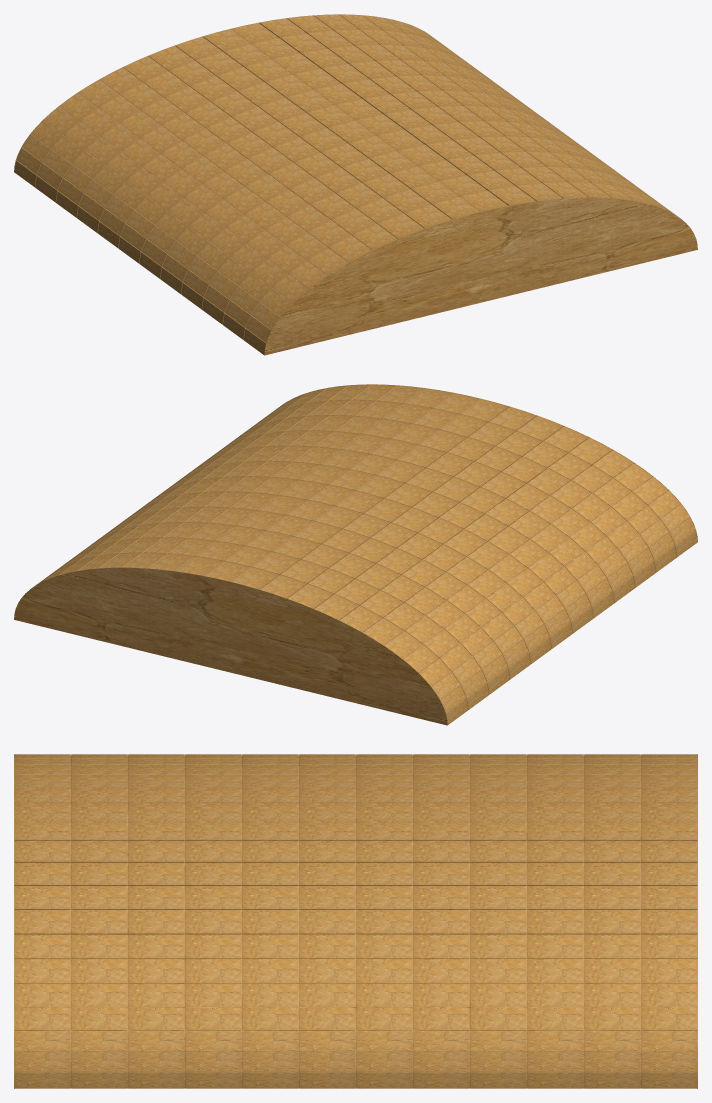
File: SM_MoleControlV2_StoneVault600.fbx
3 renders of one model, top to bottom at view 1: azimuth 30°, elevation 25°; view 2: azimuth 150°, elevation 25°; view 3: azimuth 270°, elevation 25°, orthographic. The views are drawn at different scales.
Parts seen in each view (by area): view 1: SM_MoleControlV2_StoneVault600; view 2: SM_MoleControlV2_StoneVault600; view 3: SM_MoleControlV2_StoneVault600.
Boxes of the visible parts, box(x1,y1,x2,y2) form: SM_MoleControlV2_StoneVault600: box(14, 14, 697, 355); SM_MoleControlV2_StoneVault600: box(14, 384, 697, 725); SM_MoleControlV2_StoneVault600: box(14, 754, 697, 1088).
Size of what is drawn, in the model's own units: 600 by 600 by 120.
